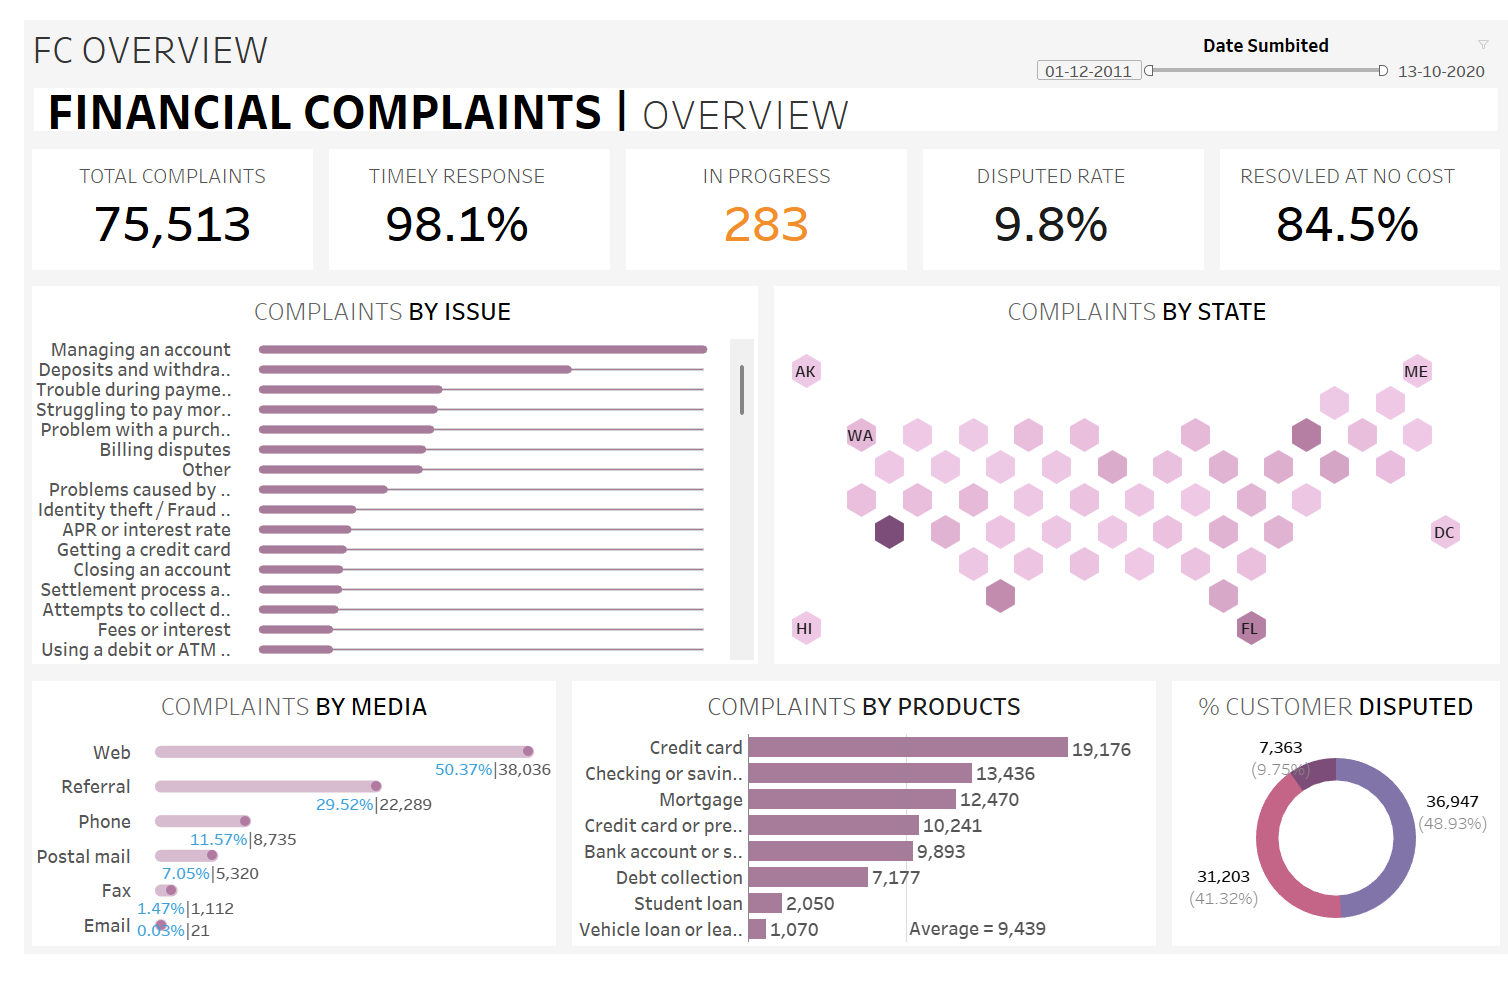

This screenshot's page, from the dashboard's own definition file:
{"tool":"tableau","page":{"name":"FC OVERVIEW","canvas":[1500,950],"ordinal":0},"visuals":[{"type":"title","box":[8,8,1484,58]},{"type":"filter","title":"COMPLAINTS BY ISSUE","param":"[federated.154lcak0cc2wnt1dvsqyi0lz5ntc].[none:Date Sumbited:qk]","box":[1021,20.1,458,47.5]},{"type":"text","box":[8,66,1484,62.7]},{"type":"worksheet","title":"TOTAL COMPLAINTS","mark":"Automatic","rows":["Number of Records"],"cols":["Date Sumbited"],"box":[8,129,297,137]},{"type":"worksheet","title":"TIMELY RESPONSE","mark":"Bar","box":[305,129,297,137]},{"type":"worksheet","title":"IN PROGRESS","mark":"Automatic","box":[602,129,297,137]},{"type":"worksheet","title":"DISPUTED RATE","mark":"Bar","box":[899,129,297,137]},{"type":"worksheet","title":"RESOVLED AT NO COST","mark":"Bar","box":[1196,129,296,137]},{"type":"worksheet","title":"COMPLAINTS BY ISSUE","mark":"Bar","rows":["Issue"],"cols":["Calculation_1391893763328737288"],"box":[8,266.2,742,394.4]},{"type":"worksheet","title":"STATE","mark":"Automatic","rows":["Row"],"cols":["Column"],"box":[750,266.2,742,394.4]},{"type":"worksheet","title":"COMPLAINTS BY MEDIA","mark":"Automatic","rows":["Submitted via"],"cols":["Number of Records"],"box":[8,660.6,540,281.4]},{"type":"worksheet","title":"COMPLAINTS BY PRODUCTS","mark":"Automatic","rows":["Product"],"cols":["Number of Records"],"box":[548,660.6,600,281.4]},{"type":"worksheet","title":"DISPUTE","mark":"Pie","rows":["Calculation_1391893763315732481","Calculation_1391893763315761155"],"box":[1148,660.6,344,281.4]}]}

Visuals, with their boxes on the page's 1500x950 design canvas (x1, y1, x2, y2). These are canvas units, not pixel positions in the 1508x990 screenshot, which may show the page scaled, cropped or inside an application window:
title: <region>8, 8, 1492, 66</region>
"COMPLAINTS BY ISSUE" filter: <region>1021, 20, 1479, 68</region>
text: <region>8, 66, 1492, 129</region>
"TOTAL COMPLAINTS" worksheet: <region>8, 129, 305, 266</region>
"TIMELY RESPONSE" worksheet (Bar marks): <region>305, 129, 602, 266</region>
"IN PROGRESS" worksheet: <region>602, 129, 899, 266</region>
"DISPUTED RATE" worksheet (Bar marks): <region>899, 129, 1196, 266</region>
"RESOVLED AT NO COST" worksheet (Bar marks): <region>1196, 129, 1492, 266</region>
"COMPLAINTS BY ISSUE" worksheet (Bar marks): <region>8, 266, 750, 661</region>
"STATE" worksheet: <region>750, 266, 1492, 661</region>
"COMPLAINTS BY MEDIA" worksheet: <region>8, 661, 548, 942</region>
"COMPLAINTS BY PRODUCTS" worksheet: <region>548, 661, 1148, 942</region>
"DISPUTE" worksheet (Pie marks): <region>1148, 661, 1492, 942</region>
